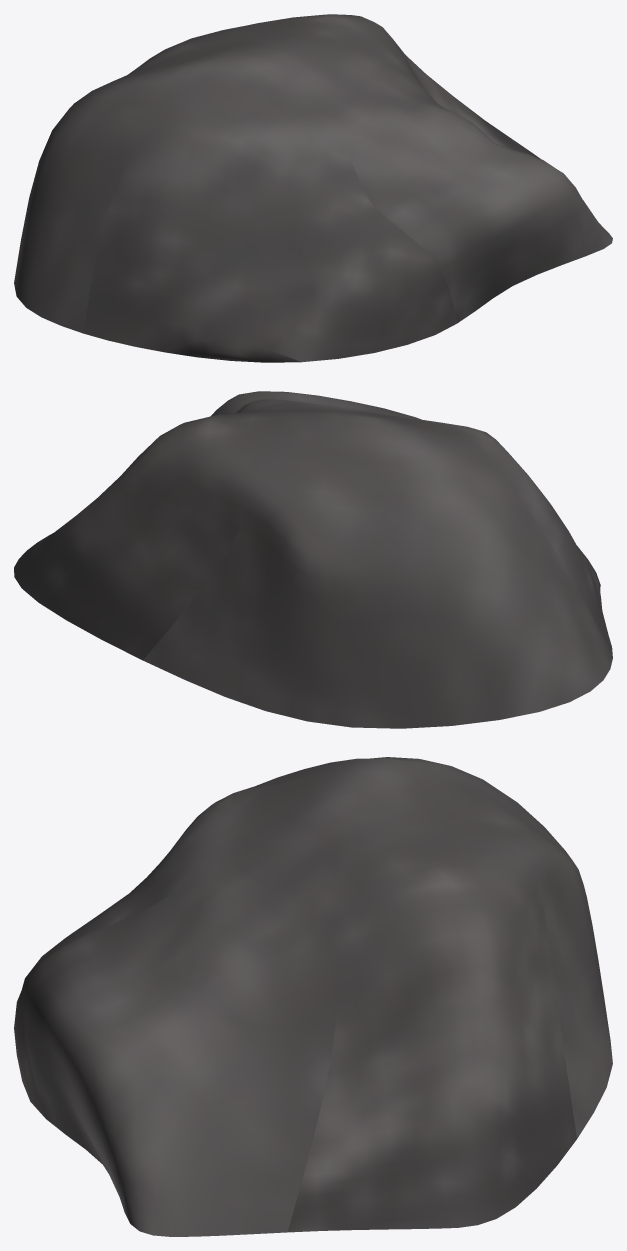
Rendered from Rock 3.fbx.
3 renders of one model, top to bottom at view 1: azimuth 30°, elevation 25°; view 2: azimuth 150°, elevation 25°; view 3: azimuth 270°, elevation 25°, orthographic. The views are drawn at different scales.
Parts seen in each view (by area): view 1: Rock_3; view 2: Rock_3; view 3: Rock_3.
Boxes of the visible parts, left/top/right/bottom form: Rock_3: left=14, top=14, right=612, bottom=362; Rock_3: left=14, top=391, right=612, bottom=728; Rock_3: left=14, top=757, right=612, bottom=1236.
Size of the model in its own units: 156 by 58.35 by 118.
Materials: 1 (1 with a texture image).
